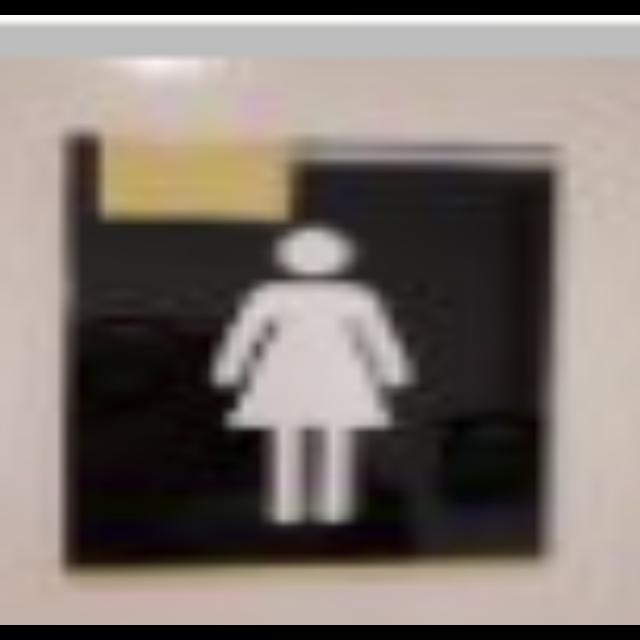wc nu: (63, 133, 556, 568)
